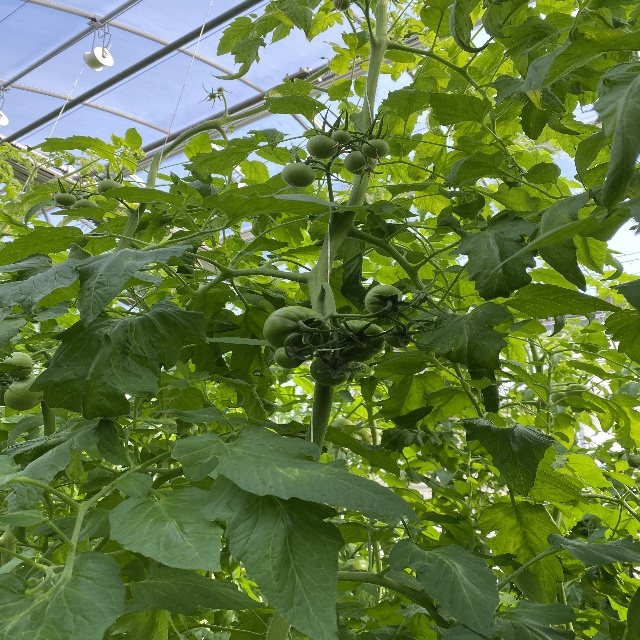b_green: (264, 306, 331, 357), (330, 320, 385, 362), (3, 377, 45, 411), (310, 355, 352, 387), (365, 285, 403, 317), (281, 162, 316, 188), (306, 134, 339, 160), (4, 351, 35, 378), (344, 151, 378, 175), (384, 325, 413, 349), (274, 346, 304, 368), (361, 139, 390, 159), (96, 179, 122, 196), (54, 193, 77, 206), (69, 199, 97, 209), (332, 130, 351, 144), (412, 291, 429, 304)
